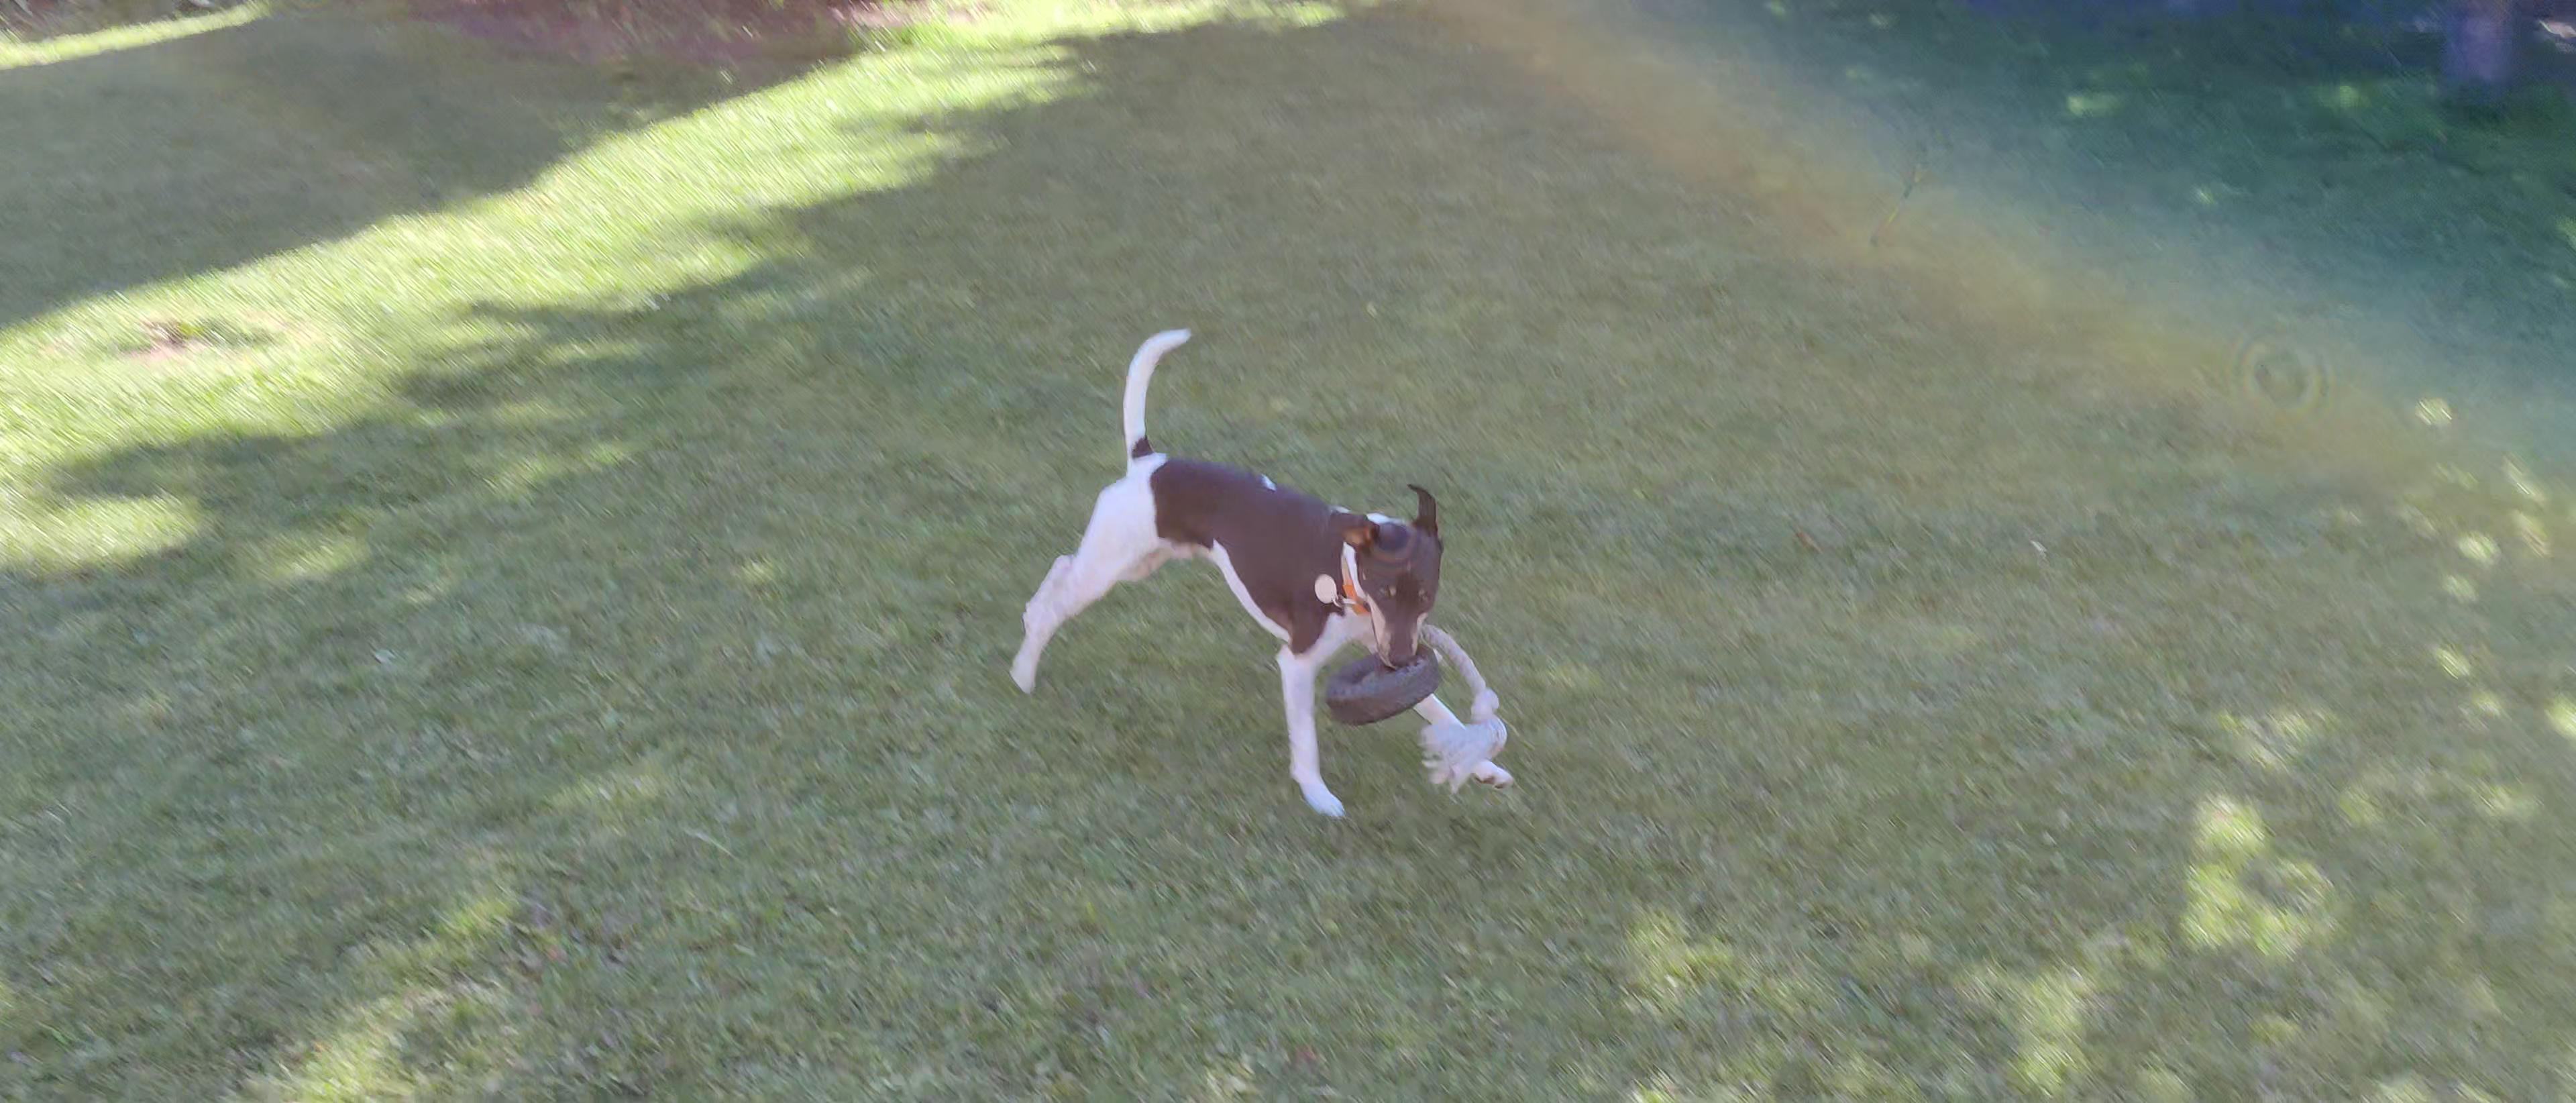Dog: (996, 319, 1525, 822)
